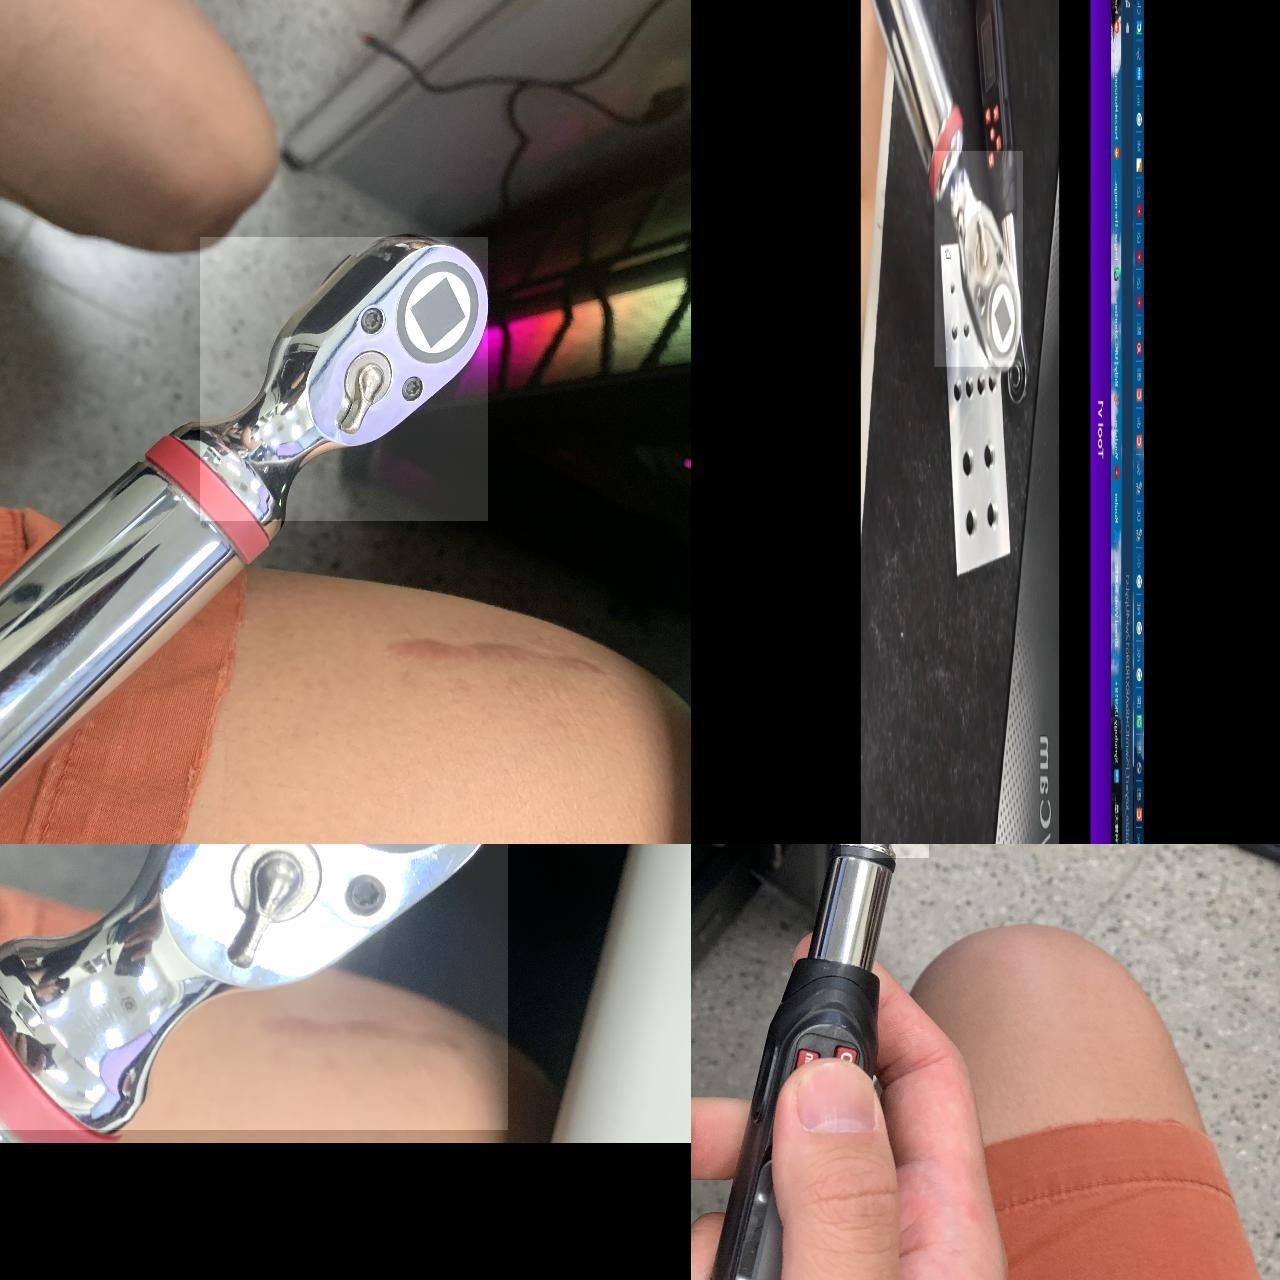Tool: (0, 844, 508, 1130), (199, 237, 486, 520), (933, 151, 1022, 367)
